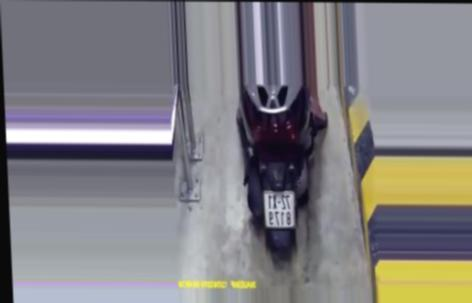License_Plate: (260, 188, 302, 229)
